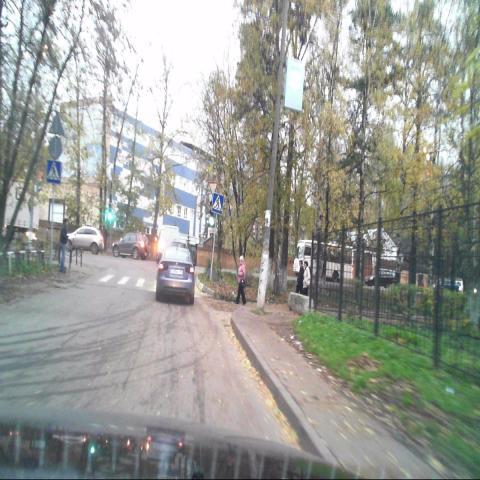2_4: (208, 182, 218, 197)
5_19_1: (211, 192, 224, 214), (48, 160, 60, 183)
